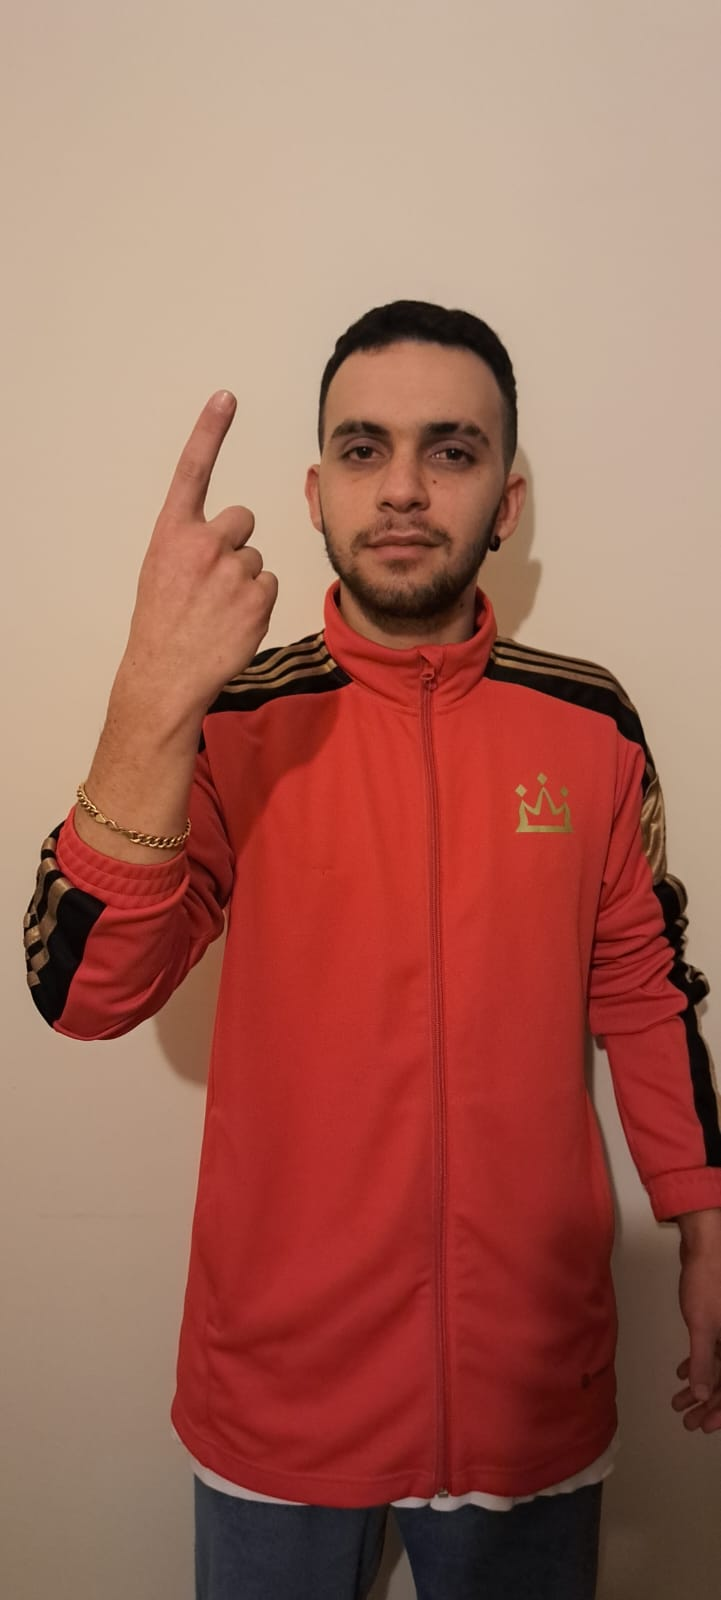joke: (94, 381, 290, 729)
